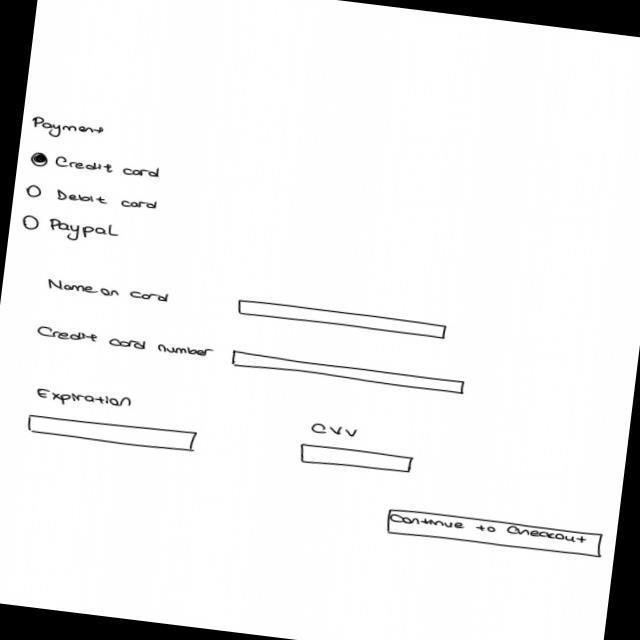button: (385, 506, 608, 562)
input: (229, 348, 469, 397), (235, 298, 452, 342), (25, 411, 200, 455), (299, 442, 416, 479)
label: (36, 325, 215, 364), (45, 276, 172, 306), (36, 386, 135, 415), (30, 116, 108, 145), (311, 420, 364, 440)
radio: (28, 151, 165, 184), (24, 184, 163, 215), (21, 214, 122, 248)
